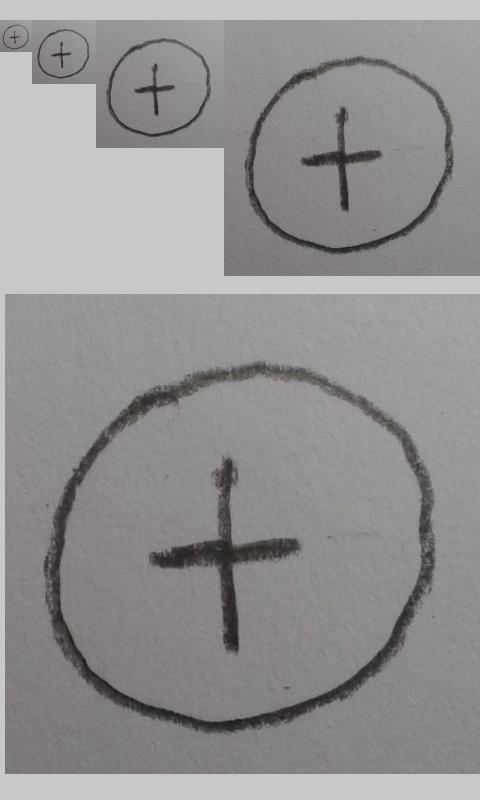button: (42, 362, 439, 736), (244, 56, 454, 254), (106, 38, 211, 137), (37, 29, 90, 79), (2, 24, 29, 49)
